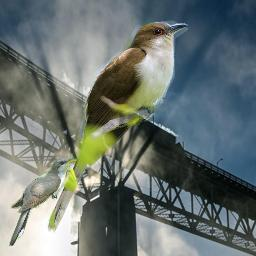Cuckoo: (45, 20, 188, 233), (9, 158, 77, 246)
